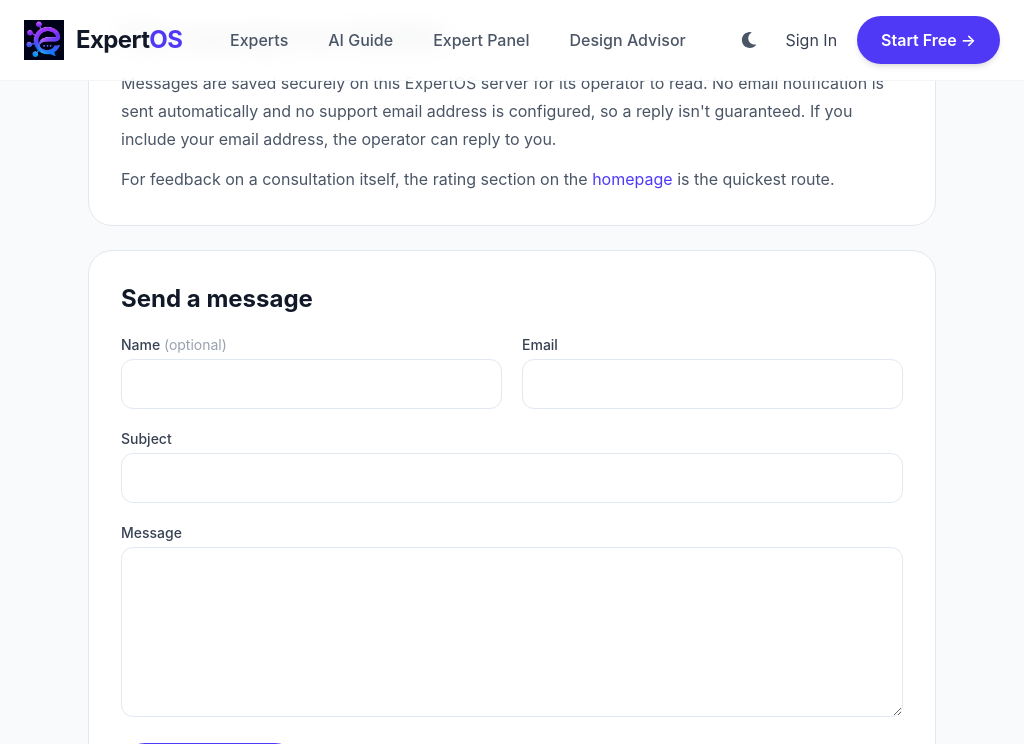
Scenario: Contact form › only shows success after the server confirms
(page scrolled)
Type "ana@example.com" into the field labelled "Email" at (712, 384), box [522,359,903,409]
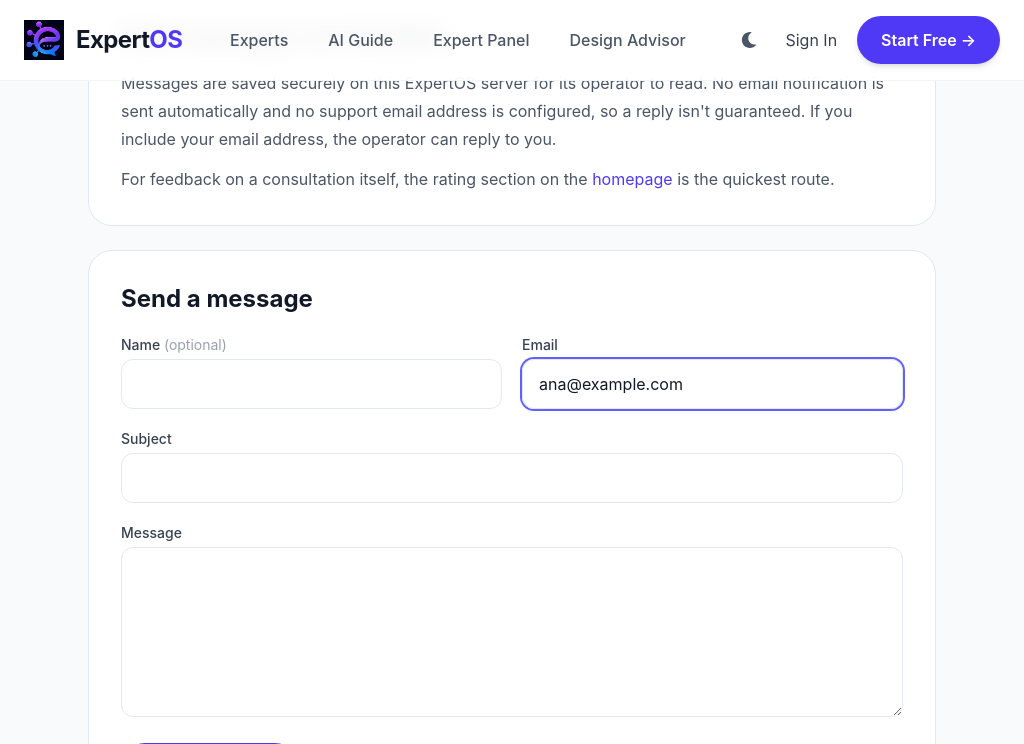
Type "Question" into the field labelled "Subject" at (512, 478), box [121,453,903,503]
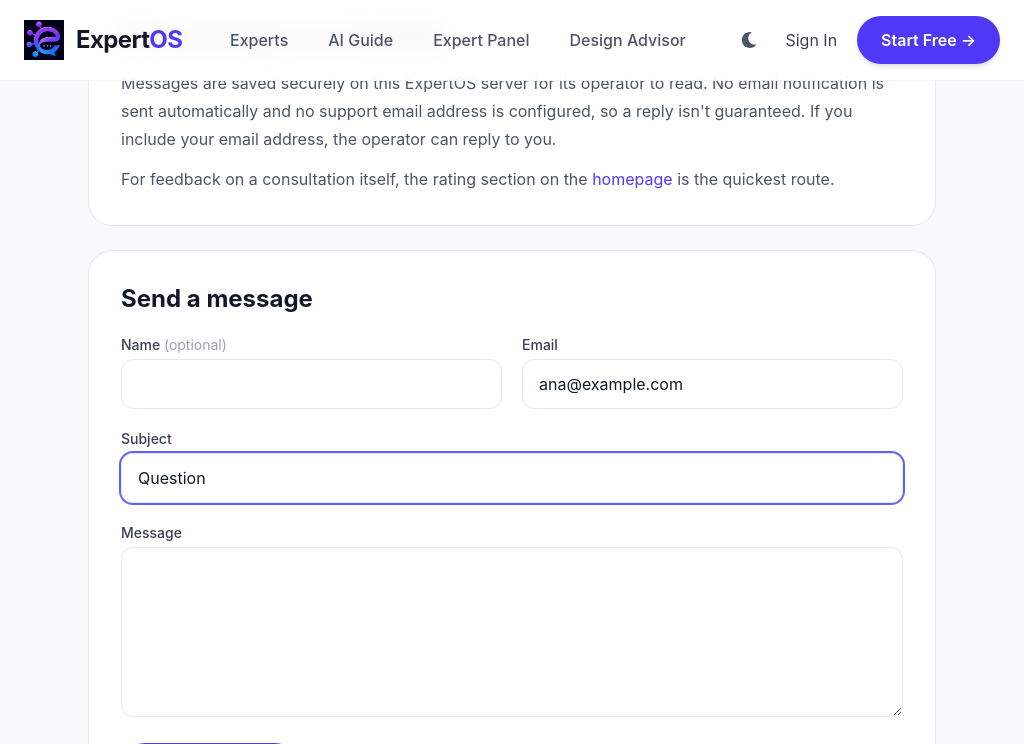
Type "How do ratings work?" into the text box labelled "Message" at (512, 632), box [121,547,903,717]
(page scrolled)
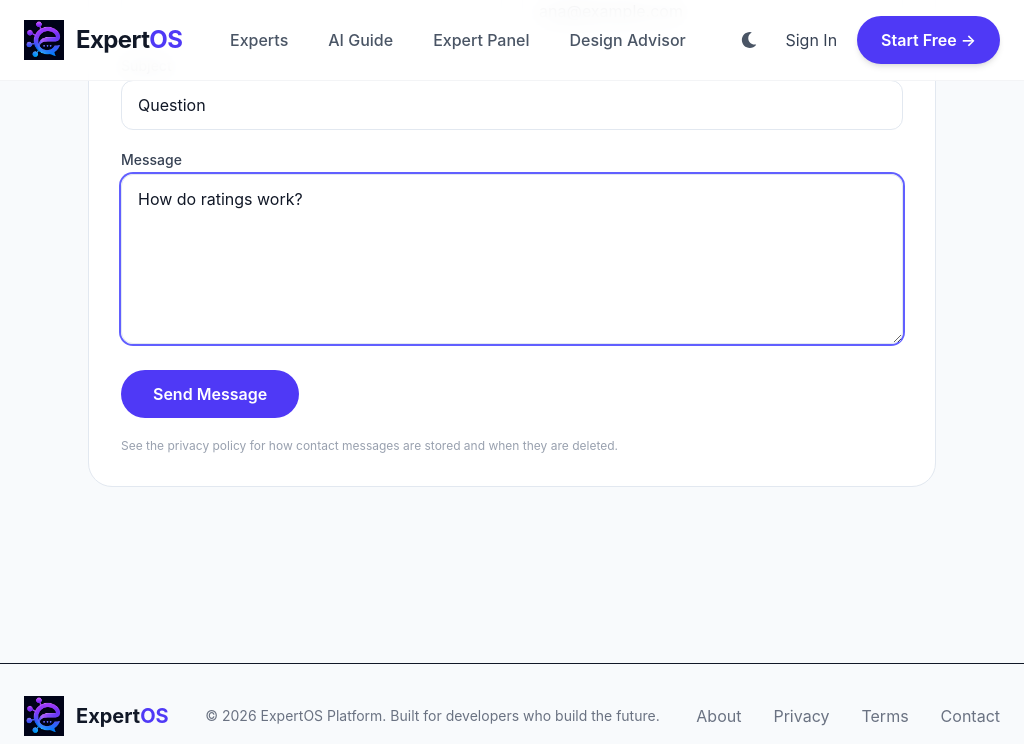
Click the button "Send Message" at (210, 394), box [121,370,299,418]
(page scrolled)
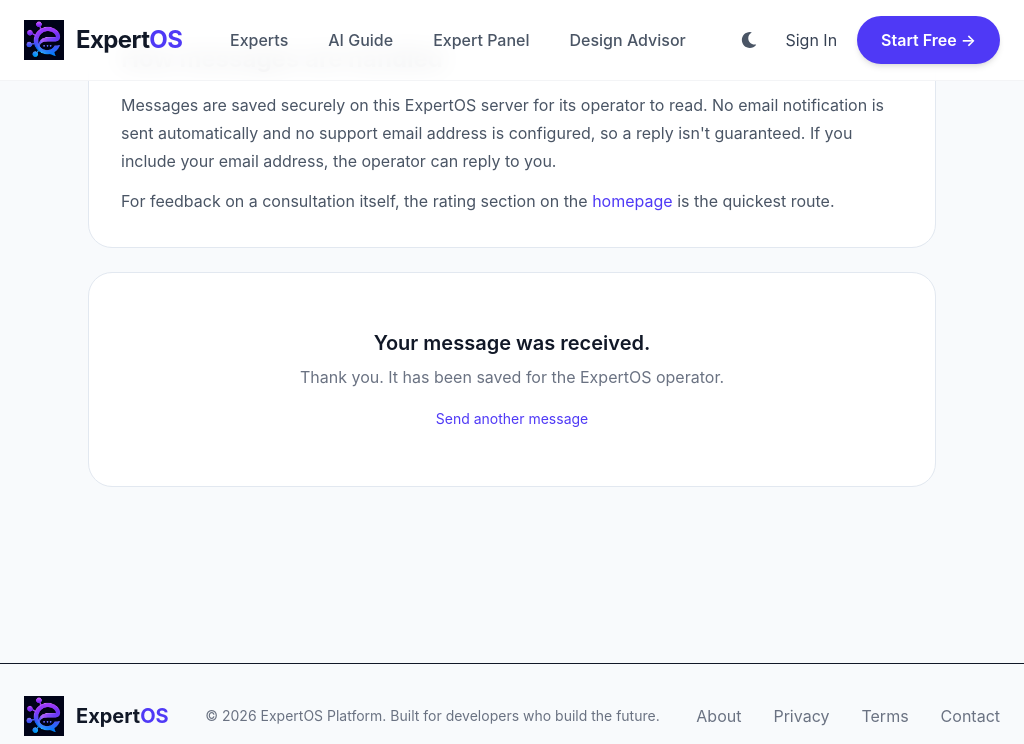
Now the text "Your message was received." is shown, box [374,331,650,355]
